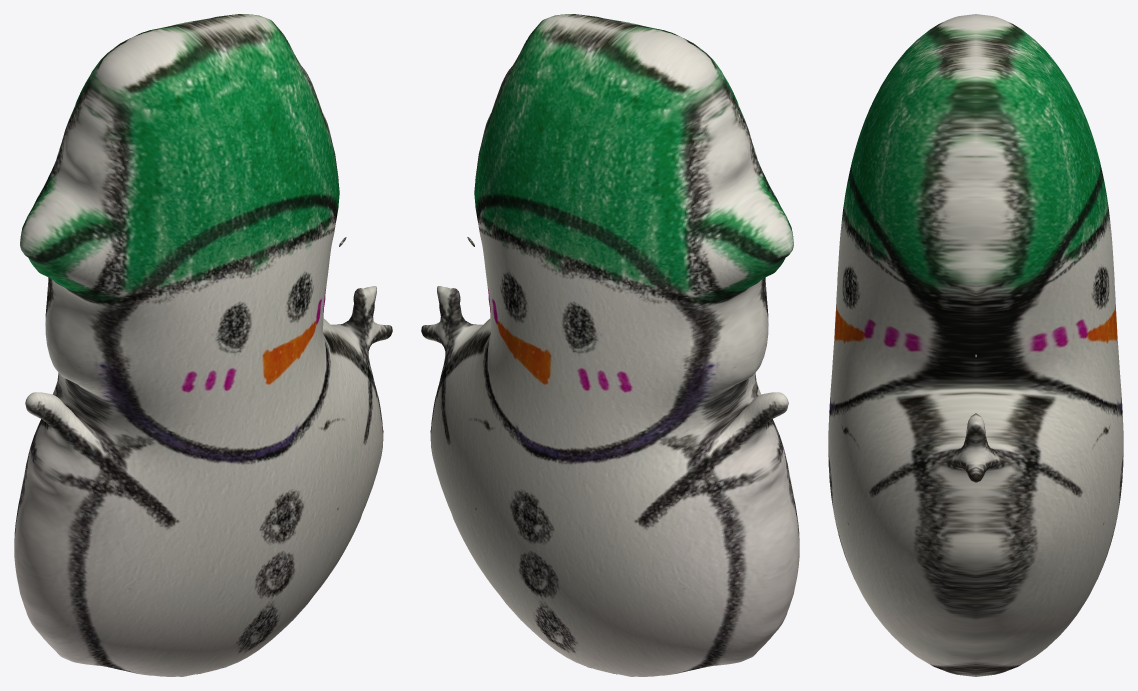
3 renders of one model, left to right at view 1: azimuth 30°, elevation 25°; view 2: azimuth 150°, elevation 25°; view 3: azimuth 270°, elevation 25°, orthographic.
Bounding box in the file's own units: 4.3 × 7.04 × 2.99.
Materials: 1 (1 with a texture image).
